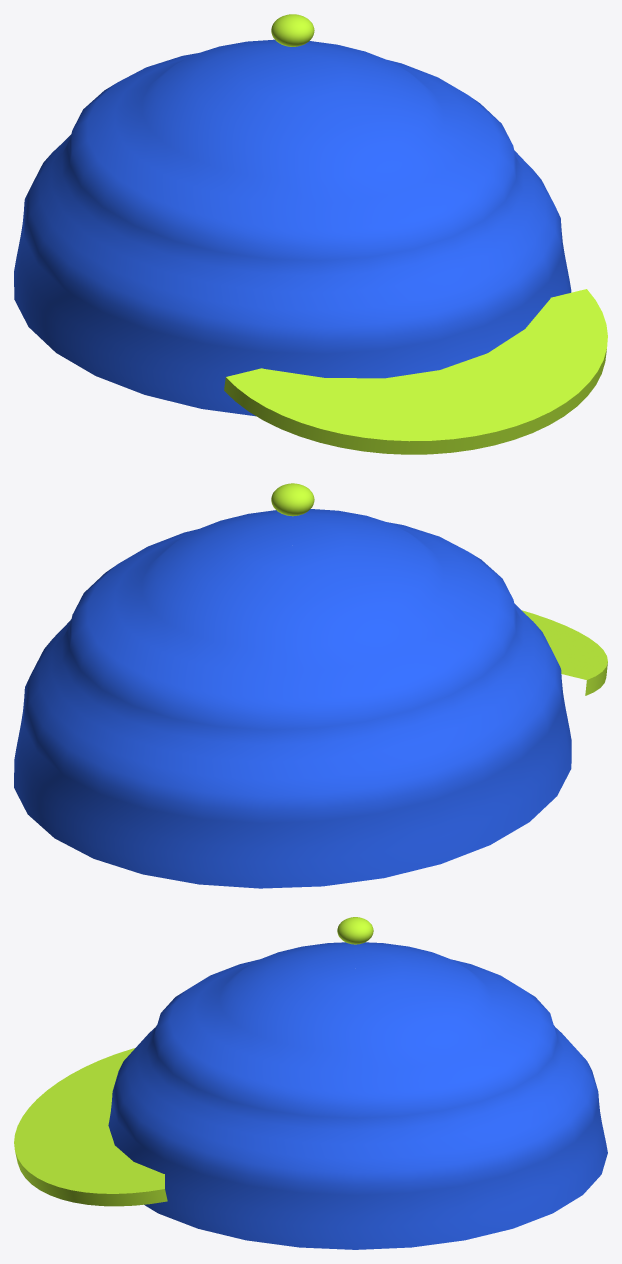
The model's file is hat_cap_male.glb.
3 renders of one model, top to bottom at view 1: azimuth 30°, elevation 25°; view 2: azimuth 150°, elevation 25°; view 3: azimuth 270°, elevation 25°, orthographic. The views are drawn at different scales.
Visible parts, largest first — view 1: dome, brim, button; view 2: dome, brim, button; view 3: dome, brim, button.
Boxes of the visible parts, box(x1,y1,x2,y2) form: dome: box(14, 39, 571, 416); brim: box(224, 289, 607, 454); button: box(271, 14, 314, 46); dome: box(14, 509, 571, 888); brim: box(522, 610, 607, 695); button: box(271, 483, 314, 516); dome: box(108, 942, 607, 1249); brim: box(14, 1048, 167, 1206); button: box(337, 917, 373, 944).
Bounding box in the file's own units: 0.3278 × 0.1858 × 0.4241.
